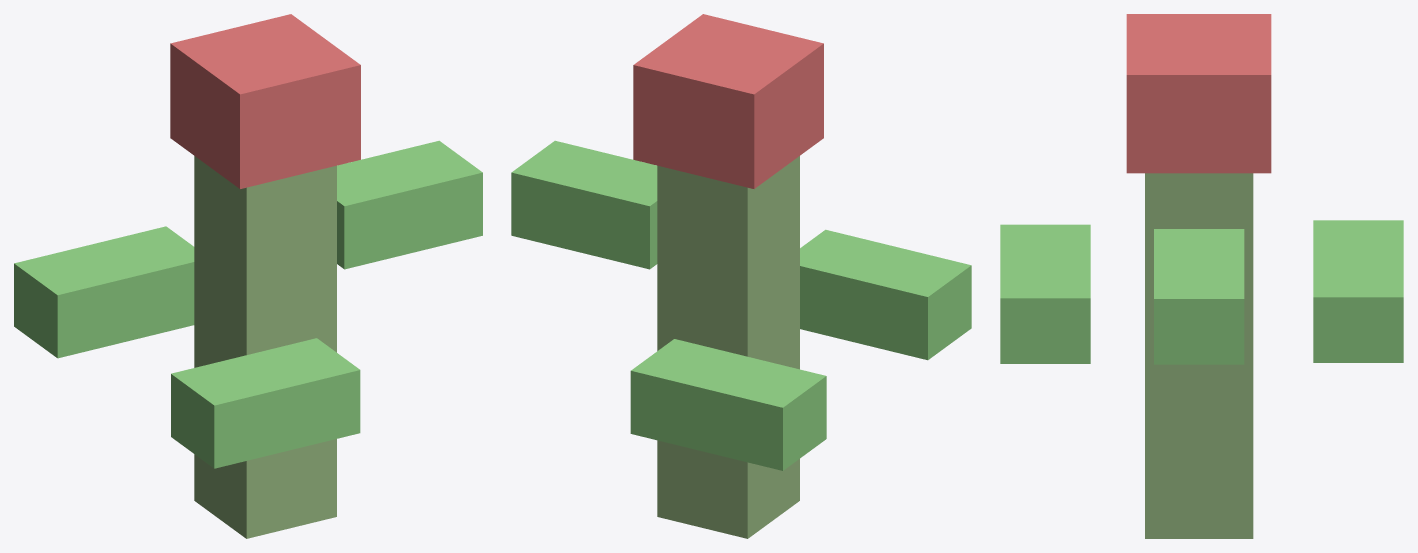
Rendered from Prop_Herb_AMF_Guardthistle_V1.glb.
The picture shows the model from 3 angles, left to right: view 1: azimuth 30°, elevation 25°; view 2: azimuth 150°, elevation 25°; view 3: azimuth 270°, elevation 25°; orthographic projection. The views are drawn at different scales.
Visible parts, largest first — view 1: Prop_Herb_AMF_Guardthistle_V1; view 2: Prop_Herb_AMF_Guardthistle_V1; view 3: Prop_Herb_AMF_Guardthistle_V1.
Boxes of the visible parts, x1,y1,x2,y2 form: Prop_Herb_AMF_Guardthistle_V1: (14,14,482,538); Prop_Herb_AMF_Guardthistle_V1: (511,14,971,538); Prop_Herb_AMF_Guardthistle_V1: (1000,14,1403,538).
Bounding box in the file's own units: 0.2309 × 0.2878 × 0.2232.
